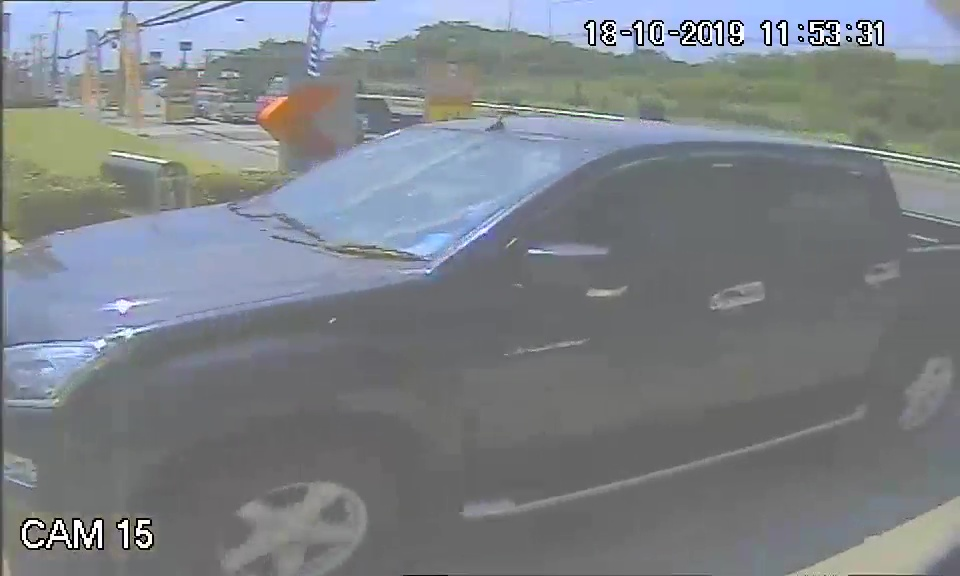pickup: (12, 117, 903, 527)
